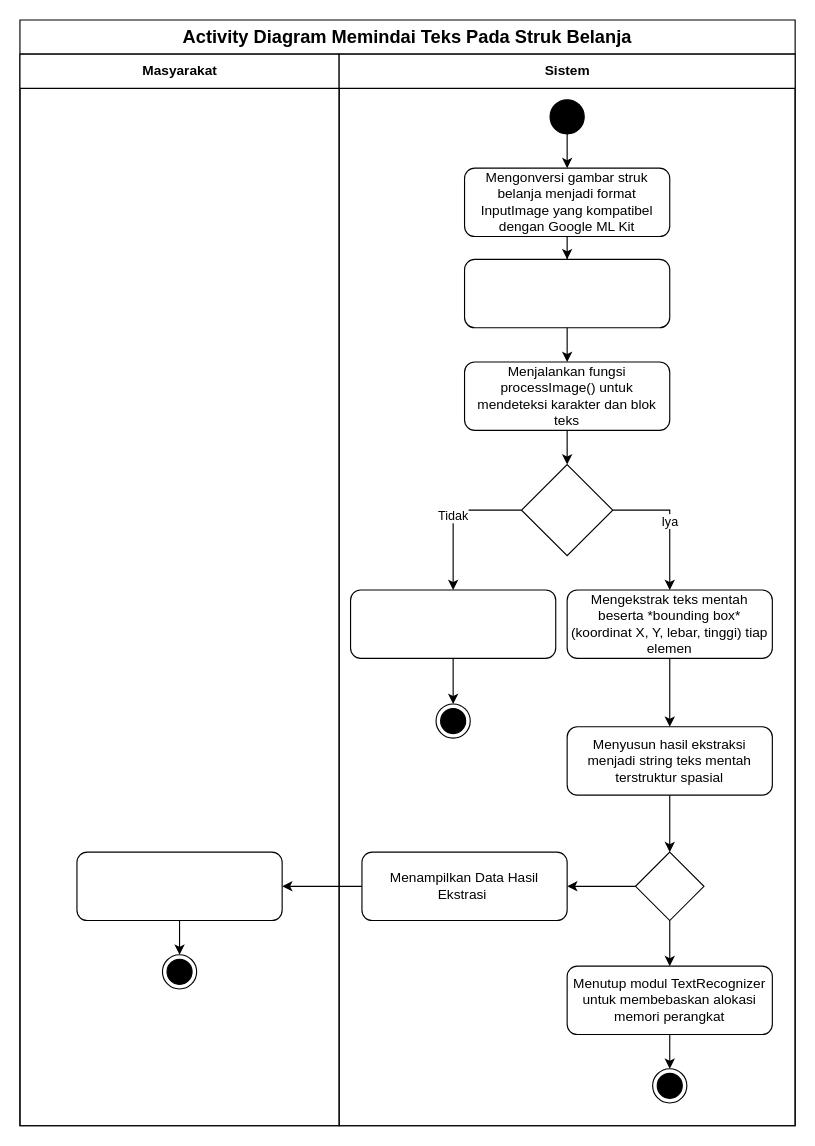
Some shapes in this 815 by 1146 pixel diagram are drawn without their labels. The shapes that lost their labels are listed below. From the top down, each one's box as (x1, y1, x2, y2) in pixels, then its label:
(463, 258, 670, 328): Menginisialisasi modul TextRecognizer
(520, 463, 613, 556): Valid?
(349, 589, 556, 658): Menampilkan pesan bahwa teks struk tidak dapat terbaca
(76, 851, 282, 921): Menerima hasil data ekstrasi OCR
